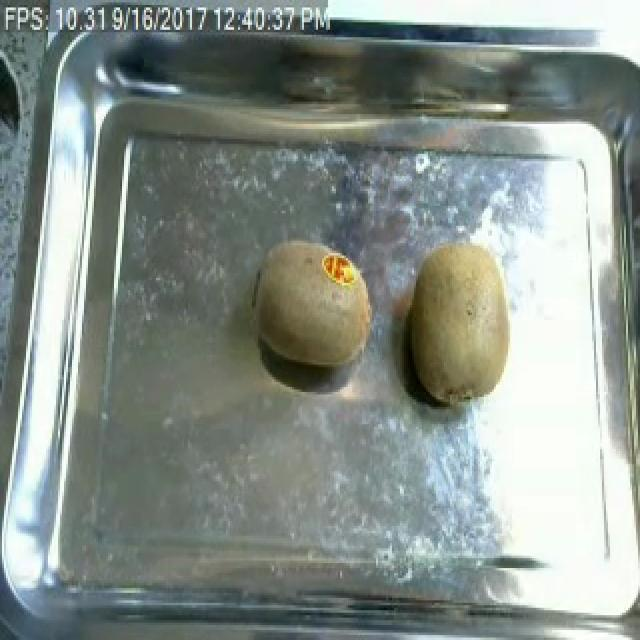Fruit: (398, 233, 520, 414), (248, 231, 382, 377)
